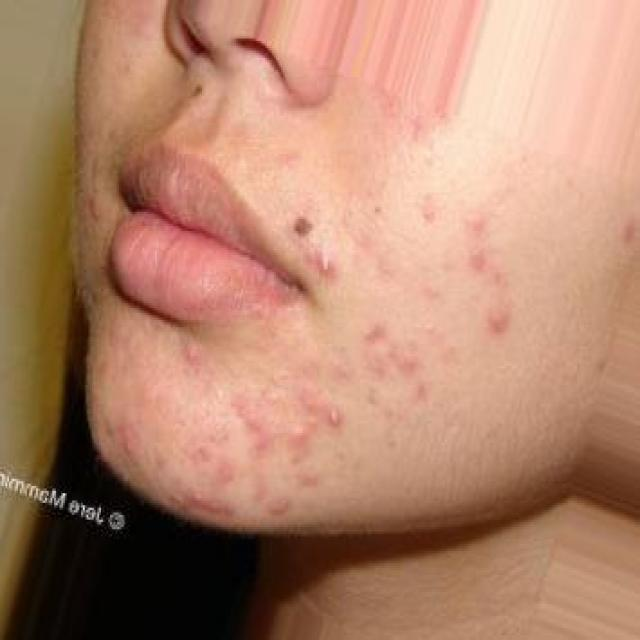acne: (358, 192, 458, 314), (220, 383, 297, 520), (356, 314, 450, 424), (162, 353, 236, 475), (300, 216, 364, 300), (288, 386, 342, 464), (450, 212, 510, 280), (107, 396, 153, 481), (154, 334, 231, 380), (186, 483, 236, 531), (408, 184, 448, 239), (480, 288, 514, 344)
